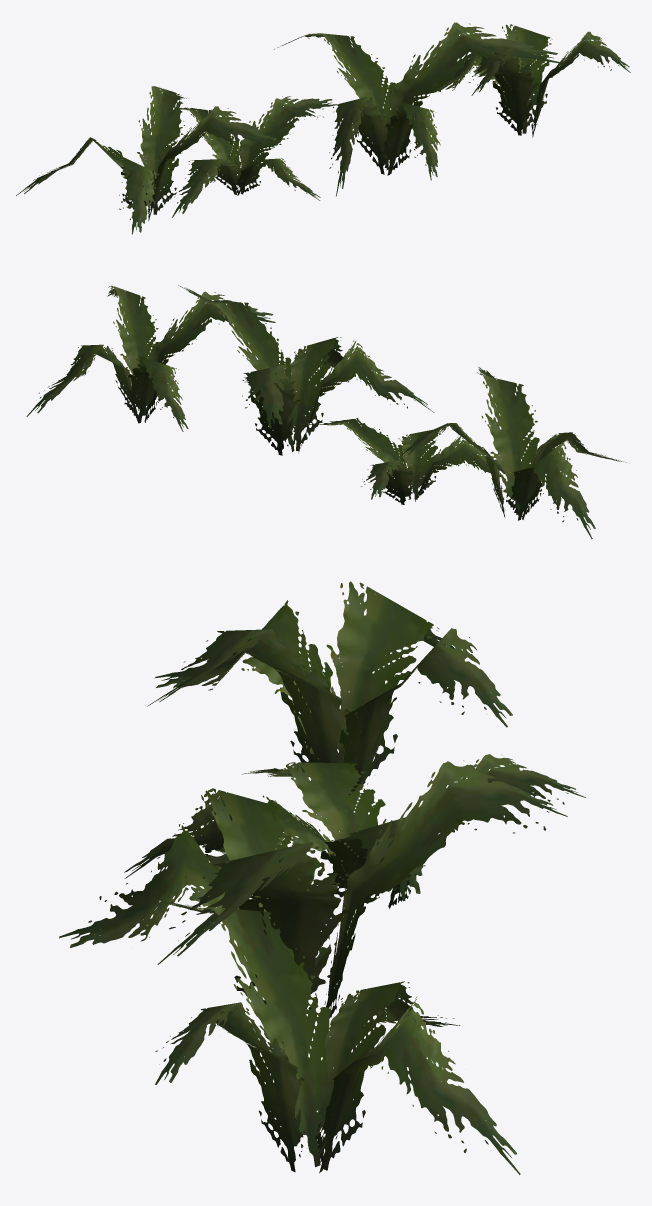
3 views of the same model, one above another, from view 1: azimuth 30°, elevation 25°; view 2: azimuth 150°, elevation 25°; view 3: azimuth 270°, elevation 25° (orthographic). The views are drawn at different scales.
Parts seen in each view (by area): view 1: Grass06; view 2: Grass06; view 3: Grass06.
Boxes of the visible parts, x1,y1,x2,y2 form: Grass06: (16,22,630,234); Grass06: (26,285,626,539); Grass06: (59,581,585,1174).
Bounding box in the file's own units: 264 × 60.63 × 110.
